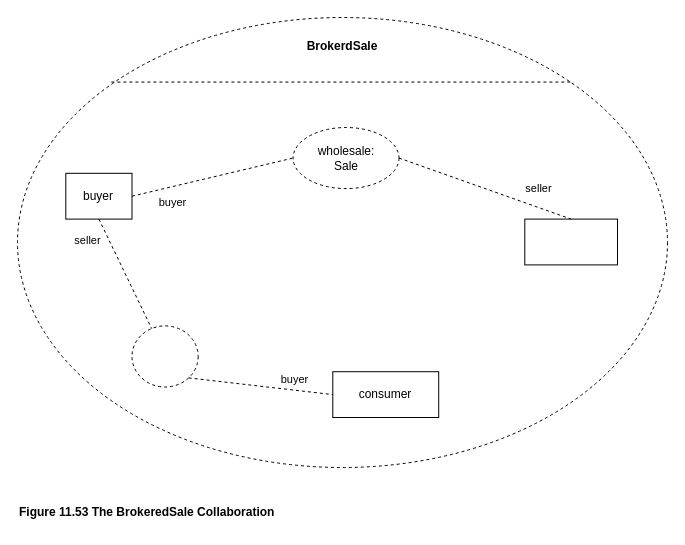
This 685x545 diagram has some shape labels left out. Each missing label, with the centre of its shape:
"producer" goes at point 571,241.
"retail: Sale" goes at point 164,356.
